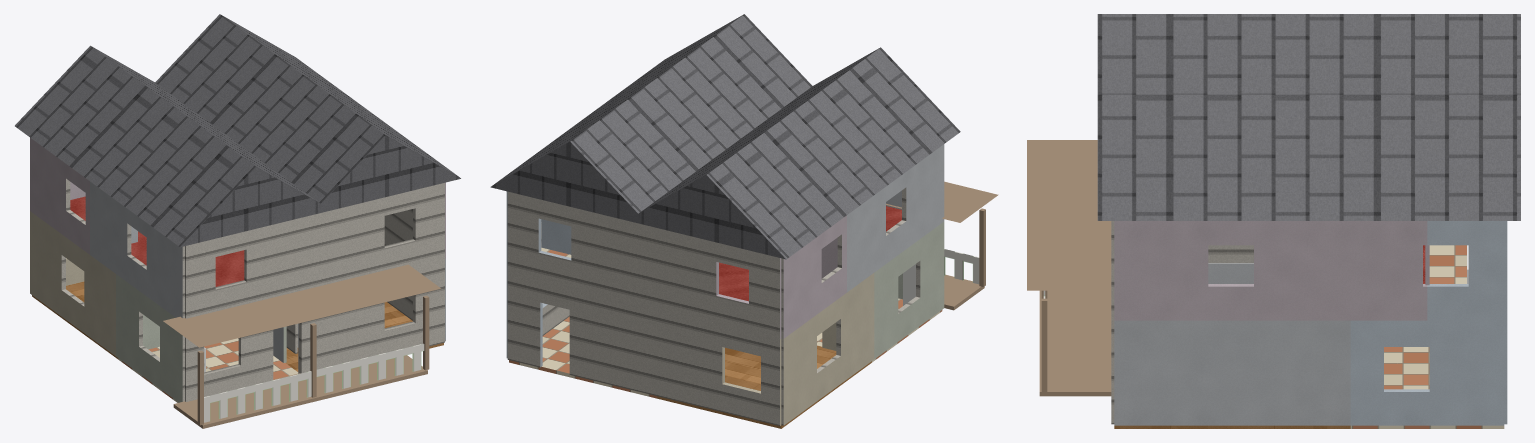
File: house3.glb
3 renders of one model, left to right at view 1: azimuth 30°, elevation 25°; view 2: azimuth 150°, elevation 25°; view 3: azimuth 270°, elevation 25°, orthographic. The views are drawn at different scales.
Parts seen in each view (by area): view 1: house3_286_structure-col; view 2: house3_286_structure-col; view 3: house3_286_structure-col.
Boxes of the visible parts, x1,y1,x2,y2 form: house3_286_structure-col: [15, 14, 460, 428]; house3_286_structure-col: [490, 14, 998, 428]; house3_286_structure-col: [1027, 14, 1520, 428].
Bounding box in the file's own units: 10.3 × 7.82 × 11.9.
Materials: 15 (11 with a texture image).
